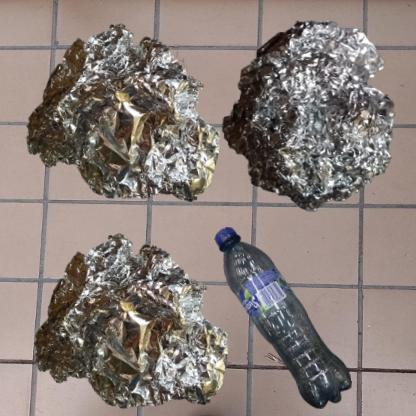aluminio: (10, 10, 233, 229), (10, 213, 249, 416), (213, 10, 407, 223)
botella: (213, 213, 362, 416)
